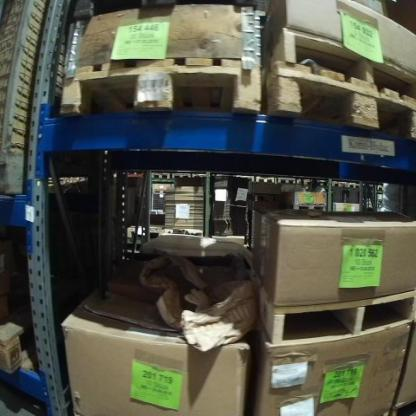pallet: (249, 267, 416, 348), (269, 63, 416, 142), (58, 65, 265, 117), (1, 312, 32, 376)
